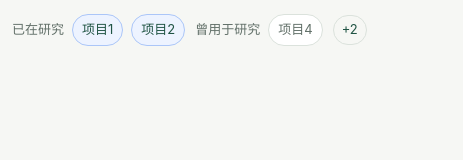
ResearchMembershipChips › shows two ACTIVE and one ARCHIVED chip before explicit expansion
The width and height of the screenshot is (463, 160).
Check: the link "项目1" is shown, box [72, 14, 123, 46]
Check: the link "项目2" is shown, box [131, 14, 185, 46]
What coordinates should you click on to do the following:
click the button named "展开其余 2 个项目"
I would click on:
 (350, 30)
Its box is [333, 15, 367, 44].
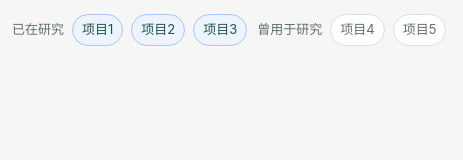
Check: the link "项目3" is shown, box [193, 14, 247, 46]
Check: the link "项目5" is shown, box [393, 14, 446, 46]
